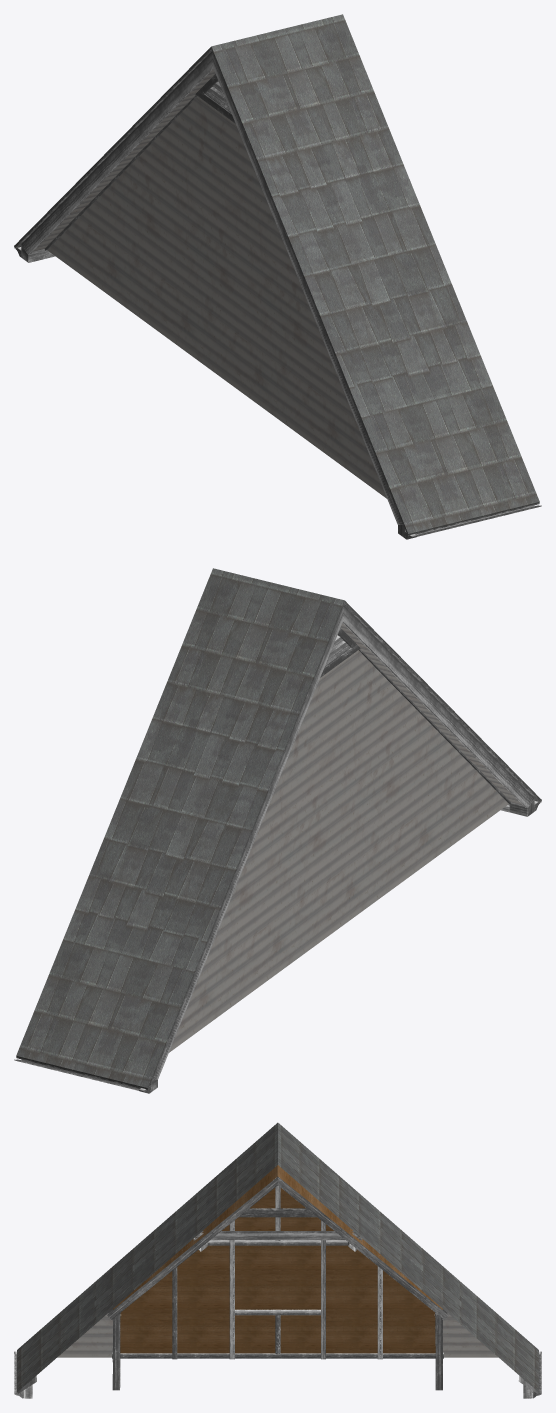
File: SM_Roof_C_End_A@VertexColors_0.fbx
3 renders of one model, top to bottom at view 1: azimuth 30°, elevation 25°; view 2: azimuth 150°, elevation 25°; view 3: azimuth 270°, elevation 25°, orthographic. The views are drawn at different scales.
Parts seen in each view (by area): view 1: SM_Roof_C_End_A; view 2: SM_Roof_C_End_A; view 3: SM_Roof_C_End_A.
Part boxes in pixels (bbox=[...]): SM_Roof_C_End_A: bbox=[14, 14, 541, 539]; SM_Roof_C_End_A: bbox=[14, 568, 541, 1093]; SM_Roof_C_End_A: bbox=[14, 1122, 541, 1398].
Size of the model in its own units: 176 by 920 by 449.
6 materials, 6 textured.
